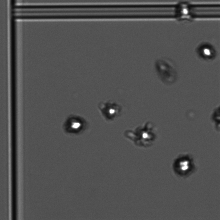Dead Cell: (149, 55, 183, 89)
Living Cell: (167, 151, 199, 179), (122, 121, 155, 148), (62, 112, 89, 137), (95, 97, 122, 122), (192, 39, 219, 64), (171, 1, 198, 24)
